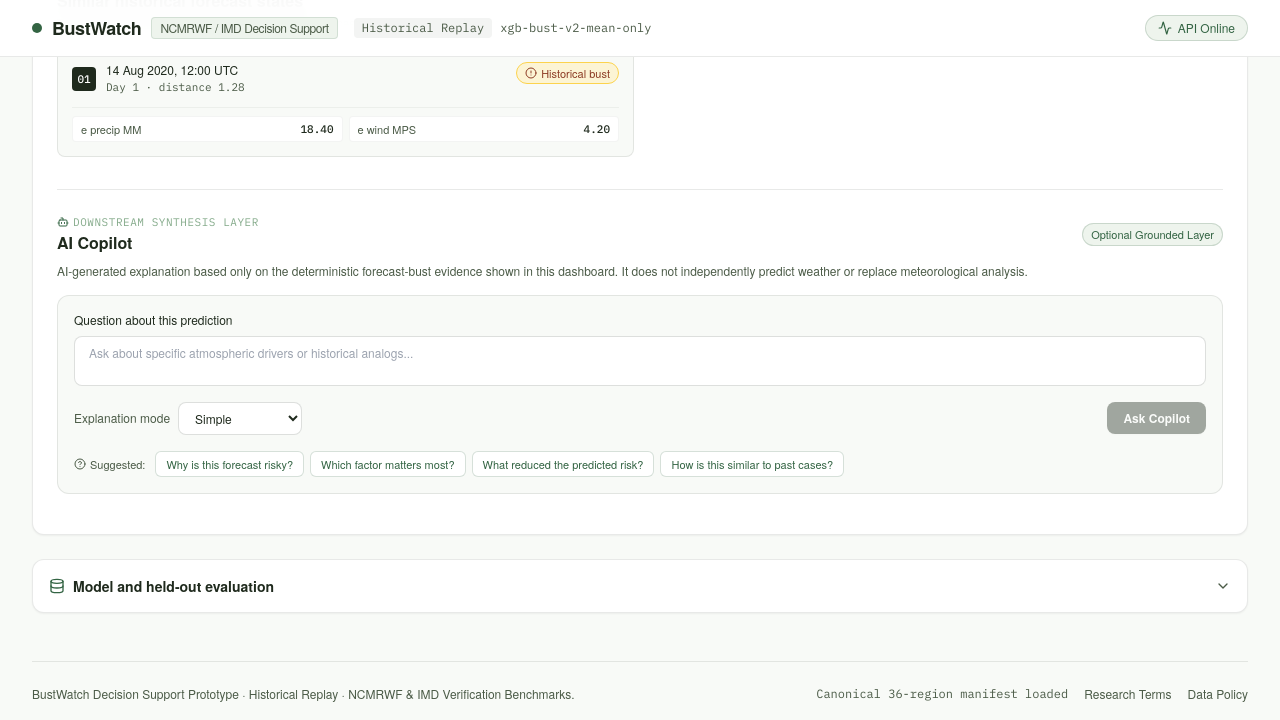
Test case: AI Copilot panel › shows an accessible loading state while the request is pending
The image size is (1280, 720).
(page scrolled)
Expected: the heading "AI Copilot" is shown, [57, 230, 132, 254]
Type "Explain the evidence" into the text box labelled "Question about this prediction" at (640, 360), box [74, 336, 1206, 386]
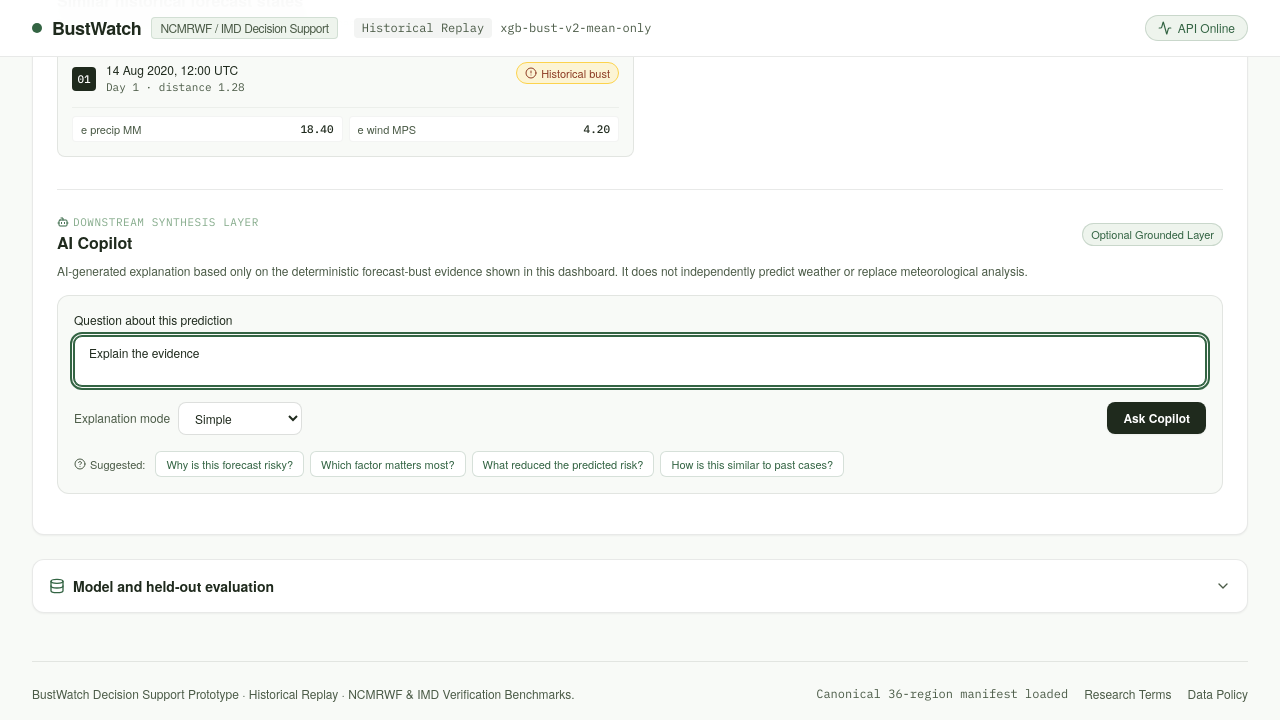
Click the button "Ask Copilot" at (1157, 418), box [1107, 402, 1206, 434]
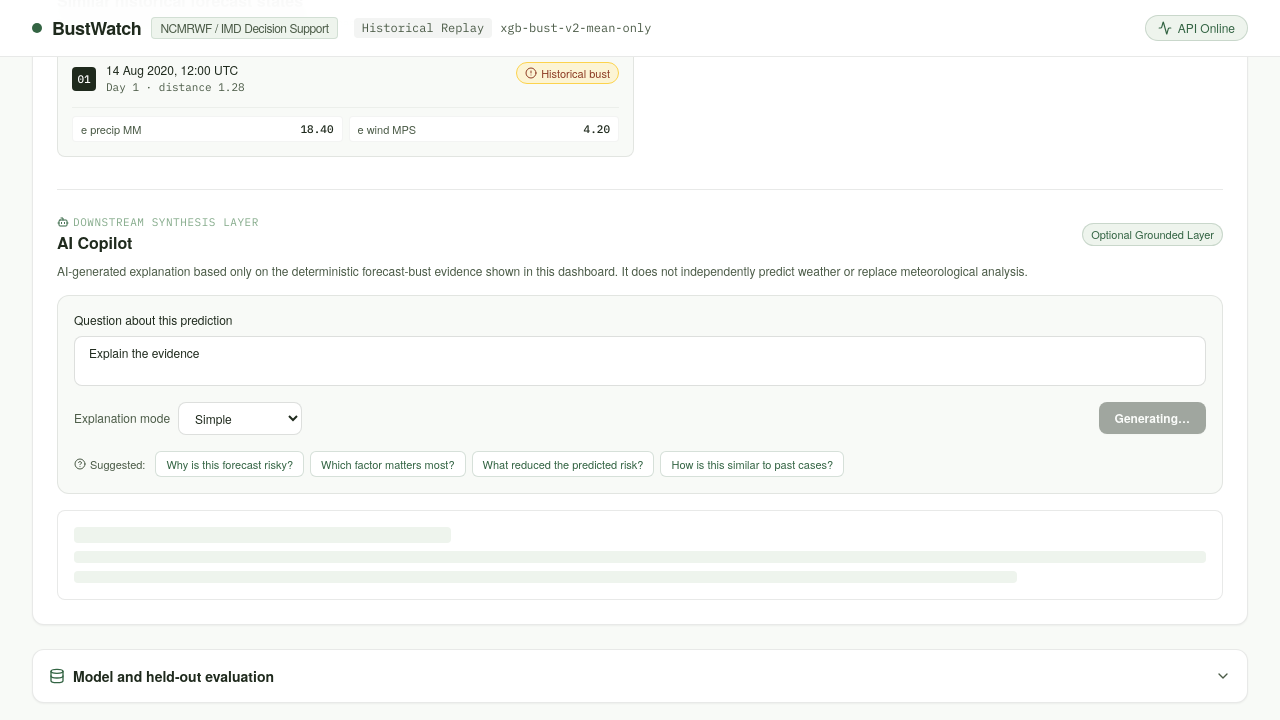
Expected: the button "Generating…" is disabled, [1099, 402, 1206, 434]
